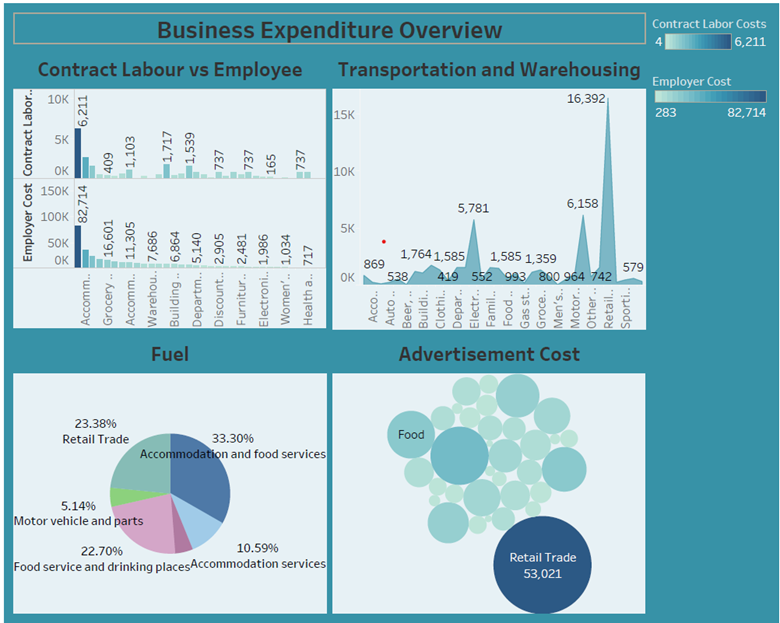

What the dashboard file says about the page in this screenshot:
{"tool":"tableau","page":{"name":"Dashboard 2","canvas":[1000,800],"ordinal":2},"visuals":[{"type":"title","box":[8,8,824,49]},{"type":"legend","title":"Contract Labour vs Employee","param":"[federated.0ub82po12p09za18ez38g08zm7uz].[sum:contract_labor_costs:qk]","box":[832,8,160,73]},{"type":"worksheet","title":"Contract Labour vs Employee","mark":"Automatic","rows":["contract_labor_costs","employer_cost"],"cols":["Business_types"],"box":[8,57,412,367.5]},{"type":"worksheet","title":"Transportation and Warehousing","mark":"Area","rows":["transportation_shipping_warehousing"],"cols":["Business_types"],"box":[420,57,412,367.5]},{"type":"legend","title":"Contract Labour vs Employee","param":"[federated.0ub82po12p09za18ez38g08zm7uz].[sum:employer_cost:qk]","box":[832,81,160,73]},{"type":"worksheet","title":"Fuel (2)","mark":"Pie","box":[8,424.5,412,367.5]},{"type":"worksheet","title":"Advertisement Cost","mark":"Circle","box":[420,424.5,412,367.5]}]}

Visuals, with their boxes in screenshot pixels (x1, y1, x2, y2), scaled from the page's 1000x800 canvas onto the 780x623 screenshot:
title: crop(6, 6, 649, 44)
"Contract Labour vs Employee" legend: crop(649, 6, 774, 63)
"Contract Labour vs Employee" worksheet: crop(6, 44, 328, 331)
"Transportation and Warehousing" worksheet (Area marks): crop(328, 44, 649, 331)
"Contract Labour vs Employee" legend: crop(649, 63, 774, 120)
"Fuel (2)" worksheet (Pie marks): crop(6, 331, 328, 617)
"Advertisement Cost" worksheet (Circle marks): crop(328, 331, 649, 617)
